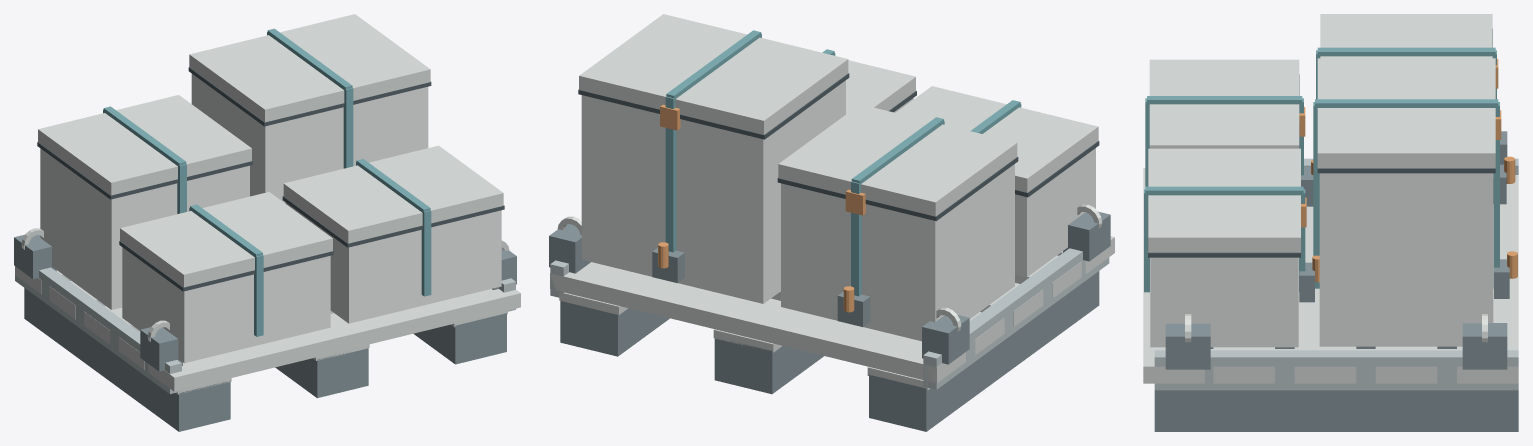
The model's file is exterior_cargo_pallet.glb.
3 views of the same model, side by side, from view 1: azimuth 30°, elevation 25°; view 2: azimuth 150°, elevation 25°; view 3: azimuth 270°, elevation 25° (orthographic). The views are drawn at different scales.
Visible parts, largest first — view 1: cargo_case_body_white_ceramic, cargo_case_lid_warm_panel, forklift_skids_dark_alloy, deck_slats_warm_panel, pallet_straps_teal, cargo_case_gasket_black_rubber, rim_rails_alloy, tie_down_anchors_dark_alloy, skid_wear_strips_satin_steel, tie_down_loops_satin_steel; view 2: cargo_case_body_white_ceramic, cargo_case_lid_warm_panel, deck_slats_warm_panel, forklift_skids_dark_alloy, pallet_straps_teal, rim_rails_alloy, tie_down_anchors_dark_alloy, cargo_case_gasket_black_rubber, skid_wear_strips_satin_steel, ratchet_housing_dark_alloy, cargo_case_latch_orange, tie_down_loops_satin_steel (+1 smaller); view 3: cargo_case_lid_warm_panel, cargo_case_body_white_ceramic, forklift_skids_dark_alloy, deck_slats_warm_panel, pallet_straps_teal, rim_rails_alloy, tie_down_anchors_dark_alloy, cargo_case_gasket_black_rubber, ratchet_housing_dark_alloy, ratchet_lever_orange, cargo_case_latch_orange, tie_down_loops_satin_steel.
Boxes of the visible parts, left/top/right/bottom form: cargo_case_body_white_ceramic: left=40, top=73, right=501, bottom=363; cargo_case_lid_warm_panel: left=38, top=14, right=503, bottom=287; forklift_skids_dark_alloy: left=24, top=288, right=506, bottom=431; deck_slats_warm_panel: left=15, top=266, right=520, bottom=391; pallet_straps_teal: left=103, top=28, right=431, bottom=336; cargo_case_gasket_black_rubber: left=37, top=67, right=504, bottom=291; rim_rails_alloy: left=15, top=267, right=515, bottom=393; tie_down_anchors_dark_alloy: left=14, top=234, right=516, bottom=371; skid_wear_strips_satin_steel: left=176, top=310, right=507, bottom=394; tie_down_loops_satin_steel: left=21, top=228, right=509, bottom=341; cargo_case_body_white_ceramic: left=581, top=80, right=1095, bottom=341; cargo_case_lid_warm_panel: left=579, top=14, right=1098, bottom=216; deck_slats_warm_panel: left=550, top=236, right=1114, bottom=383; forklift_skids_dark_alloy: left=560, top=271, right=1099, bottom=431; pallet_straps_teal: left=665, top=30, right=1021, bottom=296; rim_rails_alloy: left=550, top=248, right=1109, bottom=389; tie_down_anchors_dark_alloy: left=549, top=211, right=1110, bottom=364; cargo_case_gasket_black_rubber: left=578, top=73, right=1099, bottom=221; skid_wear_strips_satin_steel: left=559, top=292, right=929, bottom=390; ratchet_housing_dark_alloy: left=652, top=248, right=870, bottom=326; cargo_case_latch_orange: left=660, top=104, right=865, bottom=215; tie_down_loops_satin_steel: left=557, top=204, right=1102, bottom=331; cargo_case_lid_warm_panel: left=1148, top=14, right=1495, bottom=252; cargo_case_body_white_ceramic: left=1150, top=173, right=1493, bottom=347; forklift_skids_dark_alloy: left=1154, top=346, right=1518, bottom=431; deck_slats_warm_panel: left=1143, top=168, right=1518, bottom=383; pallet_straps_teal: left=1144, top=47, right=1499, bottom=292; rim_rails_alloy: left=1154, top=158, right=1518, bottom=390; tie_down_anchors_dark_alloy: left=1165, top=131, right=1507, bottom=369; cargo_case_gasket_black_rubber: left=1148, top=29, right=1495, bottom=257; ratchet_housing_dark_alloy: left=1299, top=164, right=1509, bottom=302; ratchet_lever_orange: left=1311, top=156, right=1517, bottom=282; cargo_case_latch_orange: left=1299, top=59, right=1501, bottom=227; tie_down_loops_satin_steel: left=1185, top=314, right=1487, bottom=342.
Size of the model in its own units: 1.74 by 1.1 by 1.34.
